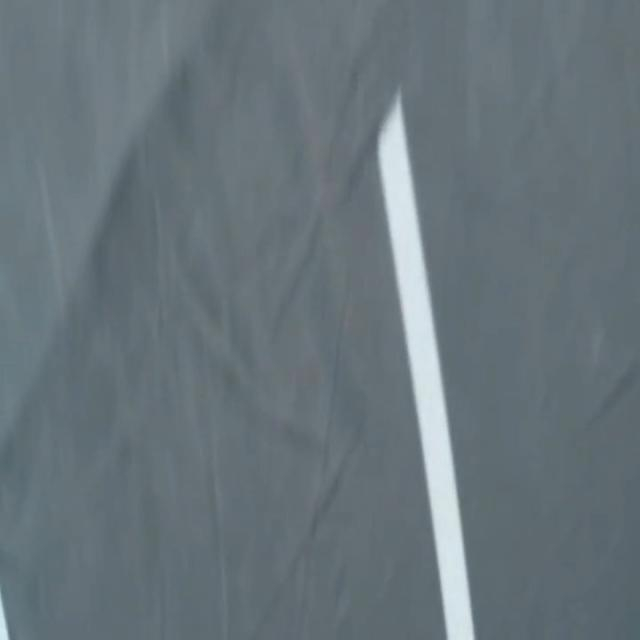center: (379, 92, 475, 639)
left: (0, 594, 9, 639)
